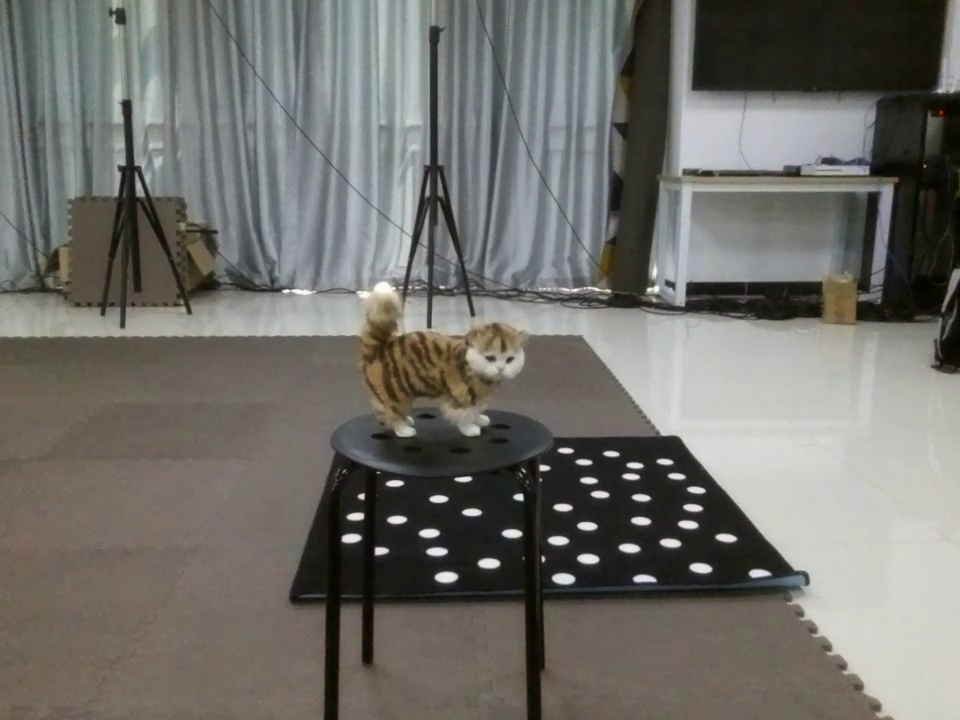cat: (348, 280, 532, 446)
